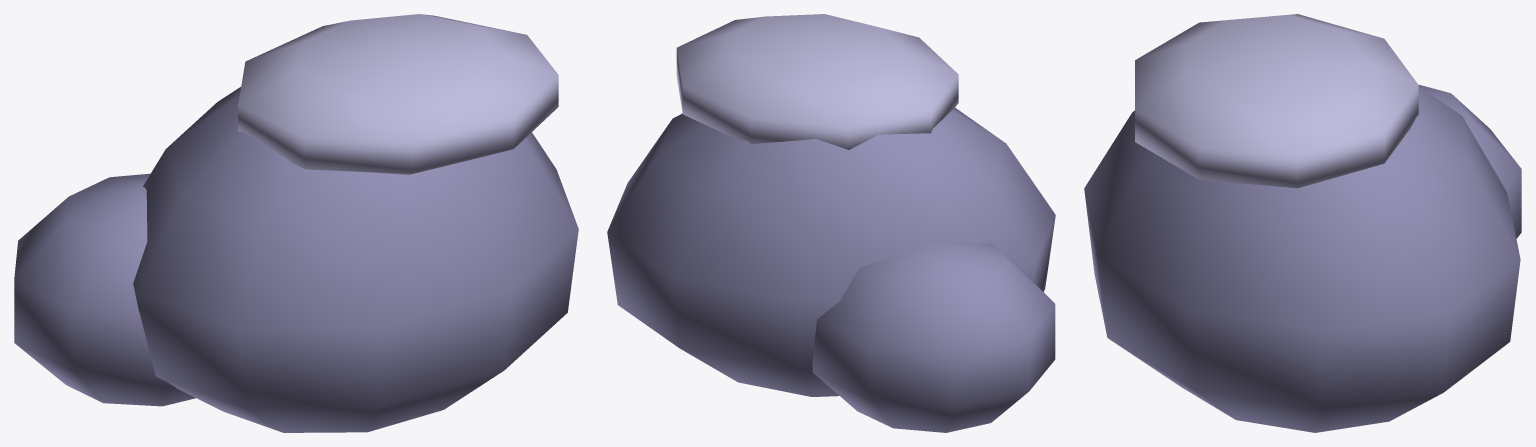
Rendered from rock.glb.
3 views of the same model, side by side, from view 1: azimuth 30°, elevation 25°; view 2: azimuth 150°, elevation 25°; view 3: azimuth 270°, elevation 25° (orthographic). The views are drawn at different scales.
Parts seen in each view (by area): view 1: Rock.001; view 2: Rock.001; view 3: Rock.001.
Boxes of the visible parts, <box> form: Rock.001: <box>14,14,578,432</box>; Rock.001: <box>607,14,1055,432</box>; Rock.001: <box>1084,14,1521,432</box>.
Size of the model in its own units: 0.906 by 0.619 by 0.6829.
